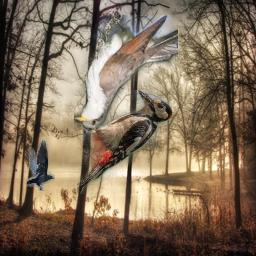Crow: (26, 137, 55, 191)
Cuckoo: (74, 15, 178, 128)
Woodpecker: (77, 90, 172, 194)
